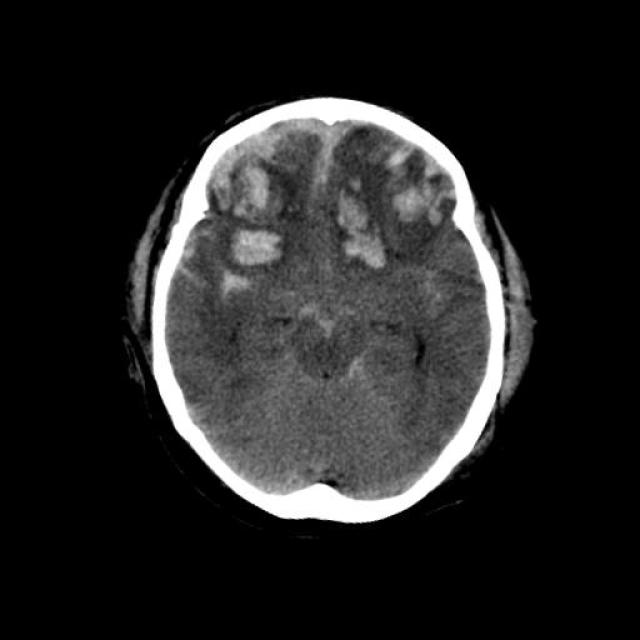Intraparenchymal: (185, 214, 297, 326), (367, 137, 467, 234), (308, 176, 398, 278), (219, 148, 309, 232)
Subarachnoid: (137, 217, 216, 325)
Subdural: (179, 73, 363, 232)
